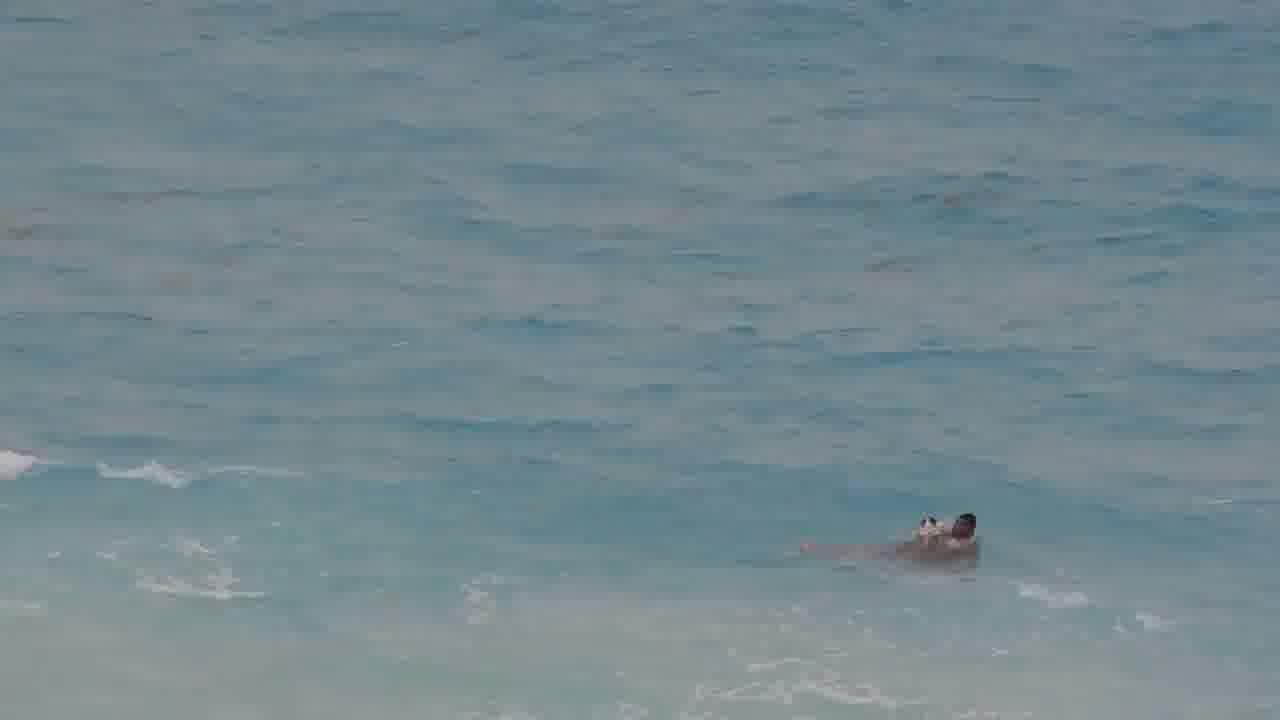human: (807, 501, 938, 560), (942, 511, 998, 564)
